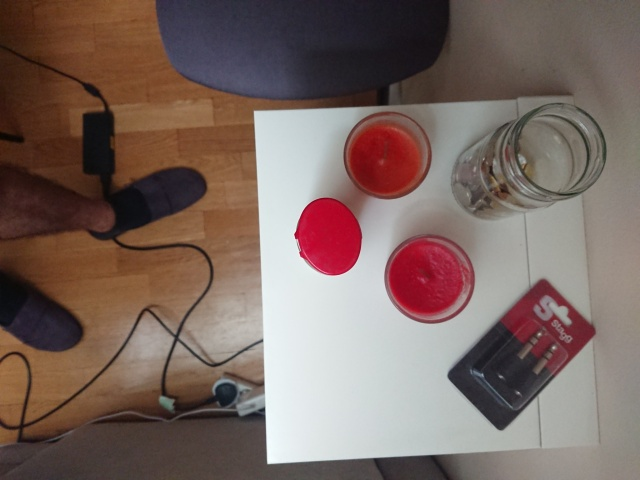Kotanyi Curry Spices Mix 70g: (292, 195, 365, 278)
